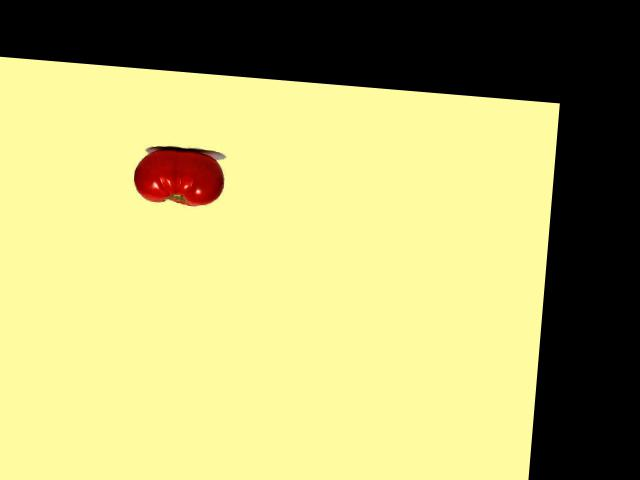tomato: (131, 146, 225, 208)
